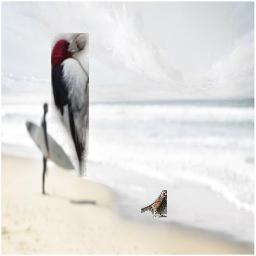Sparrow: (141, 190, 167, 218)
Woodpecker: (51, 33, 89, 177)
